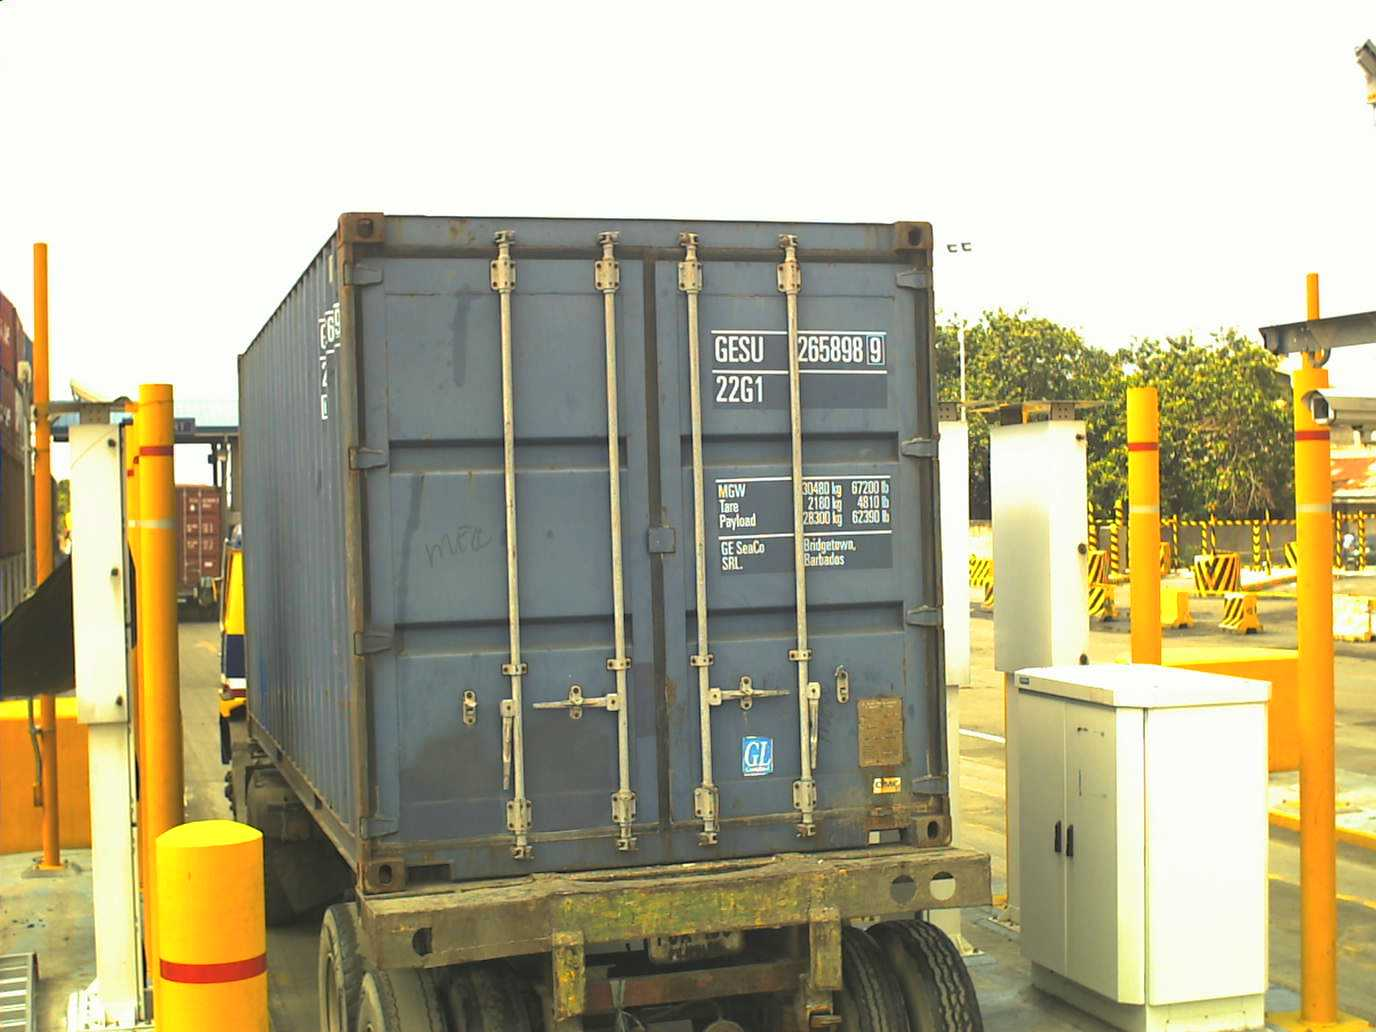container_door: (336, 190, 955, 870)
